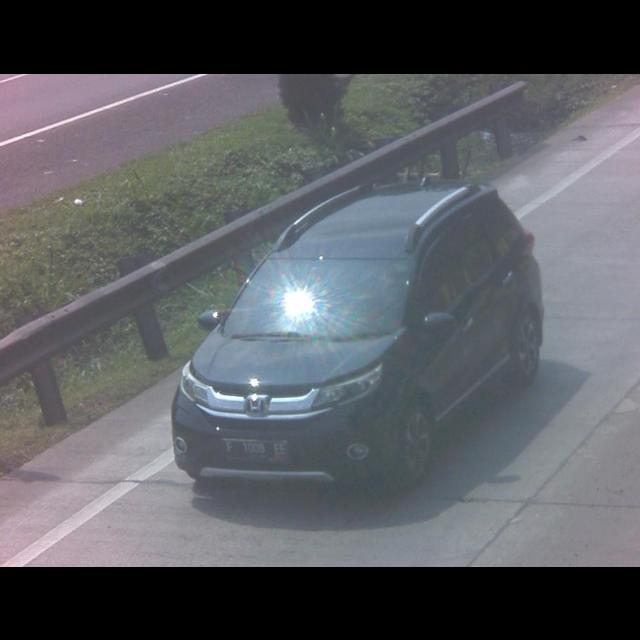plate: (222, 432, 288, 462)
